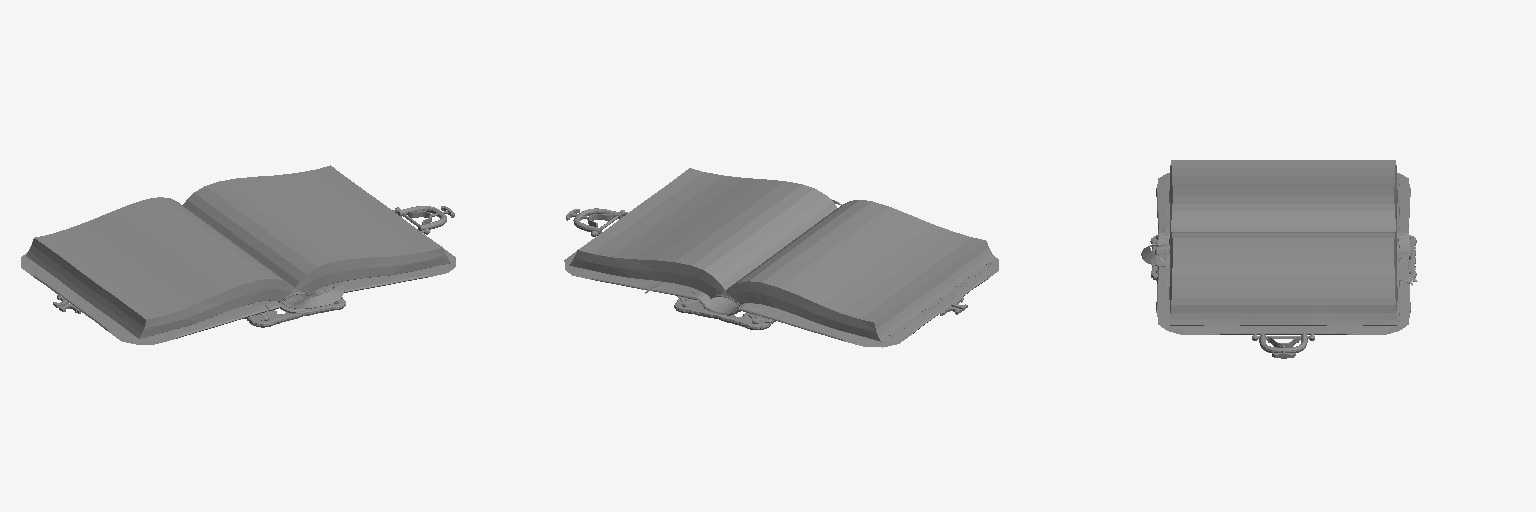
The model's file is book.obj.
The picture shows the model from 3 angles: view 1: azimuth 30°, elevation 25°; view 2: azimuth 150°, elevation 25°; view 3: azimuth 270°, elevation 25°; orthographic projection.
Visible parts, largest first — view 1: Mesh_0001, Mesh_0002, Mesh_0003, Mesh_0000, Mesh_0004; view 2: Mesh_0001, Mesh_0002, Mesh_0003, Mesh_0000, Mesh_0004, Mesh_0005; view 3: Mesh_0001, Mesh_0002, Mesh_0000, Mesh_0003, Mesh_0004.
Part boxes in pixels (x1,y1,x2,y2): Mesh_0001: (183, 165, 442, 287); Mesh_0002: (35, 197, 287, 319); Mesh_0003: (26, 238, 450, 338); Mesh_0000: (21, 187, 455, 341); Mesh_0004: (53, 206, 454, 313); Mesh_0001: (578, 168, 836, 290); Mesh_0002: (732, 200, 985, 321); Mesh_0003: (569, 241, 994, 341); Mesh_0000: (564, 190, 998, 344); Mesh_0004: (566, 208, 967, 315); Mesh_0005: (677, 296, 775, 329); Mesh_0001: (1171, 232, 1395, 304); Mesh_0002: (1171, 160, 1395, 231); Mesh_0000: (1141, 173, 1417, 334); Mesh_0003: (1169, 165, 1397, 325); Mesh_0004: (1163, 229, 1403, 358).
Size of the model in its own units: 4215 by 568 by 2580.